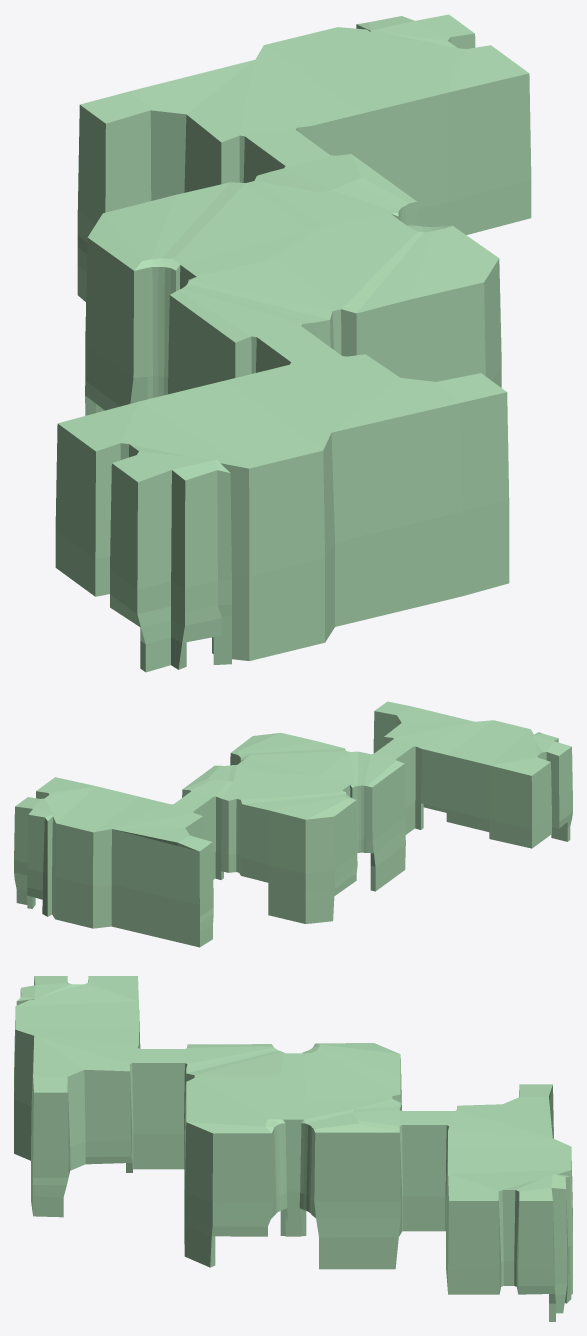
The model's file is cp_process_outside_clipbrushes.fbx.
The picture shows the model from 3 angles, top to bottom: view 1: azimuth 30°, elevation 25°; view 2: azimuth 150°, elevation 25°; view 3: azimuth 270°, elevation 25°; orthographic projection. The views are drawn at different scales.
Visible parts, largest first — view 1: clip_colonly; view 2: clip_colonly; view 3: clip_colonly.
Part boxes in pixels (x1=…): clip_colonly: x1=55, y1=14, x2=531, y2=672; clip_colonly: x1=14, y1=701, x2=572, y2=947; clip_colonly: x1=14, y1=976, x2=572, y2=1321.
Size of the model in its own units: 10189 by 2909 by 10675.
